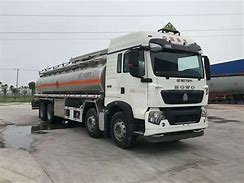oil truck: (30, 29, 213, 145)
